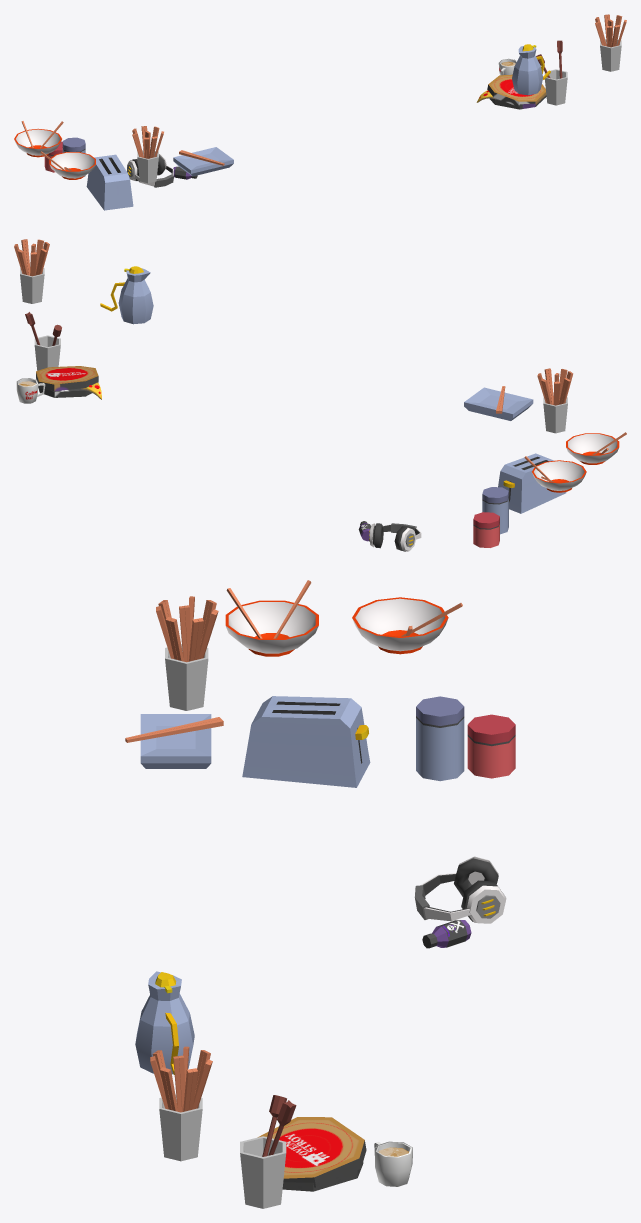
Rendered from filler_assets.fbx.
3 views of the same model, one above another, from view 1: azimuth 30°, elevation 25°; view 2: azimuth 150°, elevation 25°; view 3: azimuth 270°, elevation 25° (orthographic). The views are drawn at different scales.
Parts seen in each view (by area): view 1: pCylinder245, pCylinder246; view 2: pCylinder245, pCylinder246; view 3: pCylinder245, pCylinder246.
Part boxes in pixels (box(x1,y1,x2,y2)): pCylinder245: box(14, 14, 626, 210); pCylinder246: box(173, 58, 546, 179); pCylinder245: box(14, 239, 626, 551); pCylinder246: box(16, 366, 371, 541); pCylinder245: box(125, 580, 515, 1208); pCylinder246: box(257, 920, 471, 1191).
Size of the model in its own units: 7.27 by 1.51 by 2.23.
